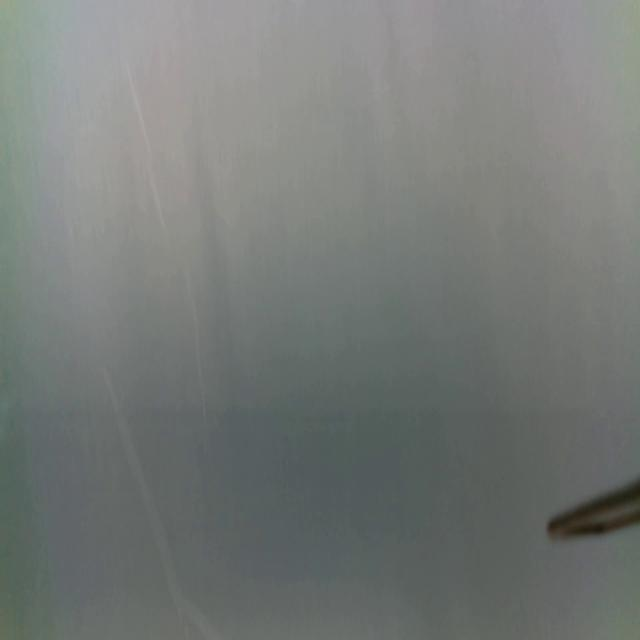crease: (94, 340, 220, 640), (125, 52, 172, 245), (184, 270, 210, 432)
